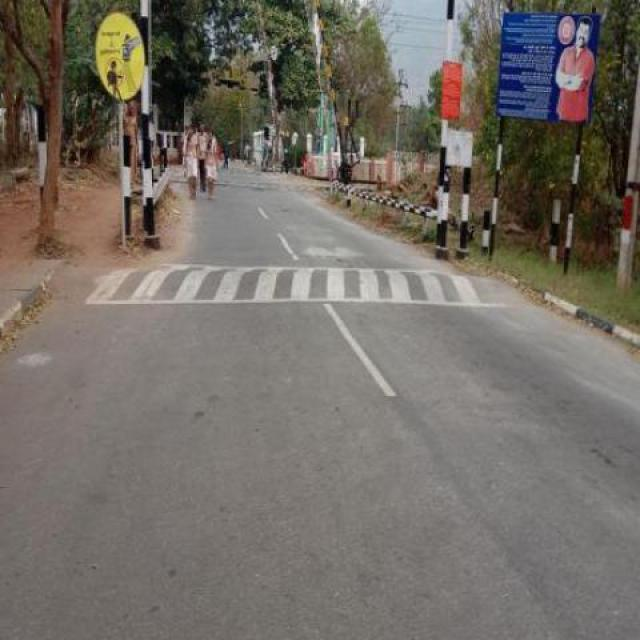Speed Bump: (68, 258, 510, 309)
